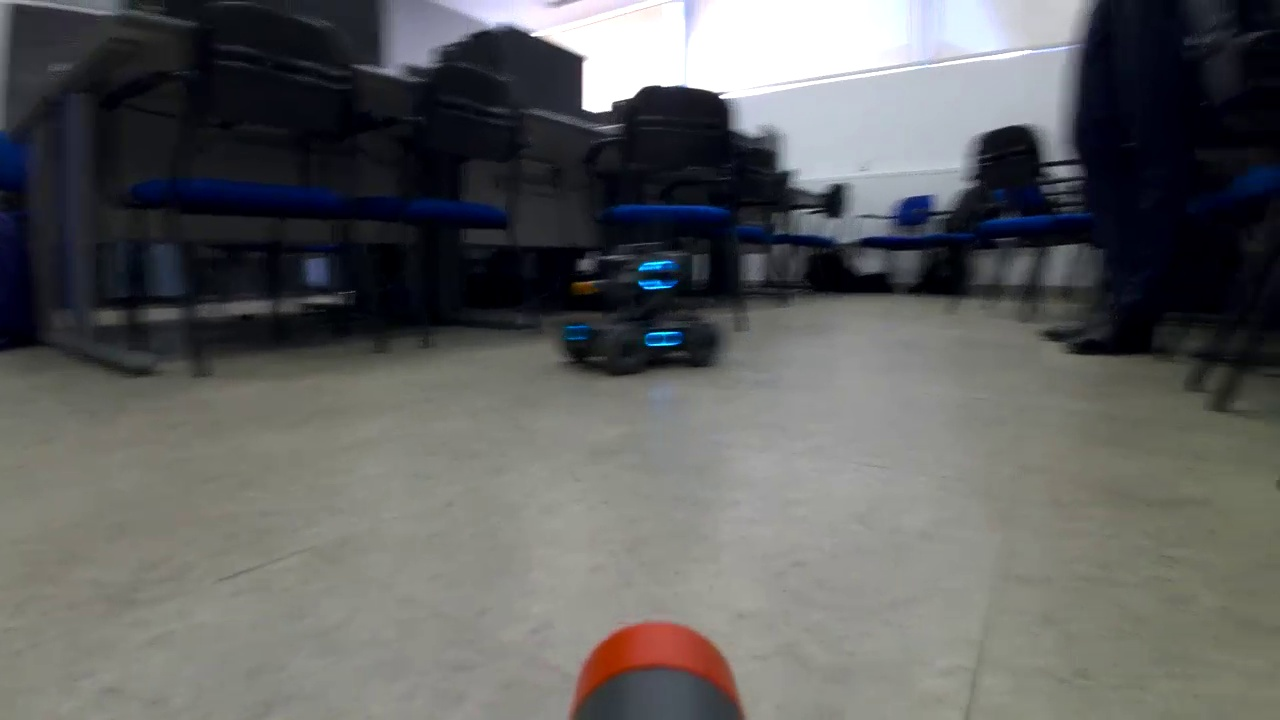robot: (560, 234, 724, 390)
